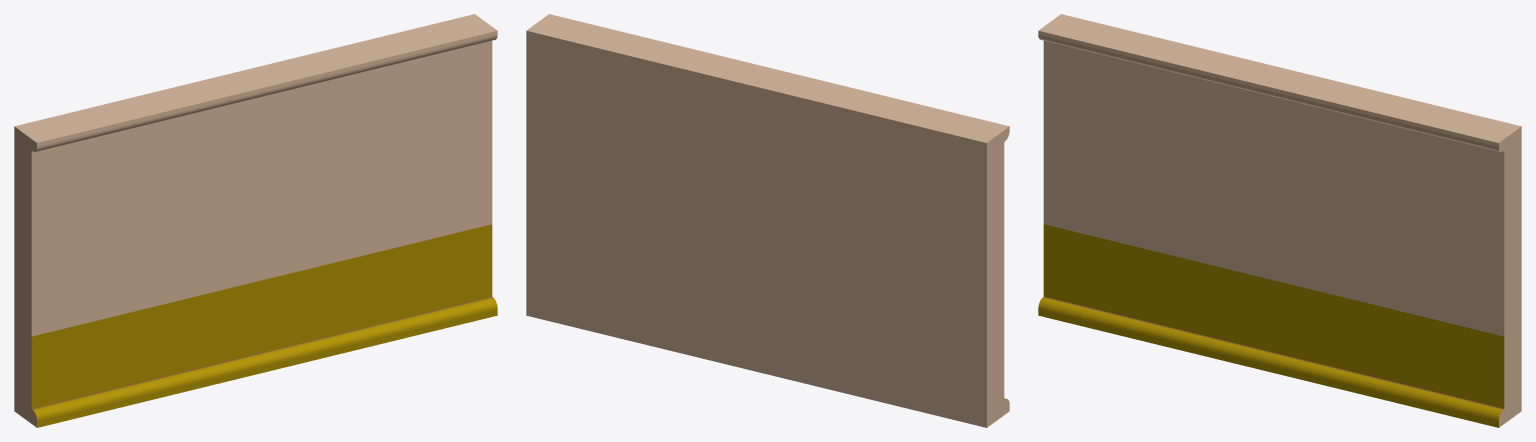
The model's file is Wall.dae.
3 views of the same model, side by side, from view 1: azimuth 30°, elevation 25°; view 2: azimuth 150°, elevation 25°; view 3: azimuth 330°, elevation 25° (orthographic).
Visible parts, largest first — view 1: Cube; view 2: Cube; view 3: Cube.
Boxes of the visible parts, left/top/right/bottom form: Cube: left=14, top=14, right=497, bottom=427; Cube: left=526, top=14, right=1009, bottom=427; Cube: left=1038, top=14, right=1521, bottom=427.
Bounding box in the file's own units: 7.85 × 0.6746 × 4.64.
1 material, 1 textured.
